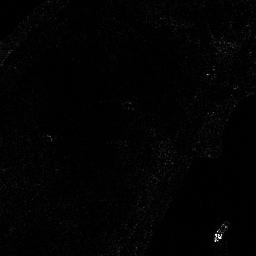ship: (211, 222, 229, 243)
